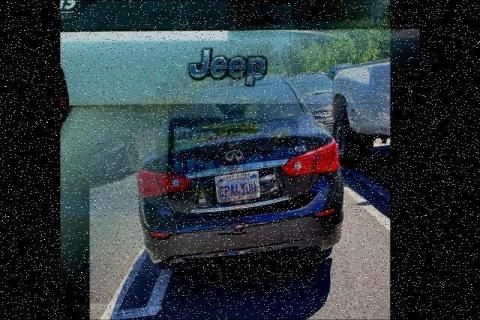LicensePlate: (214, 172, 264, 203)
